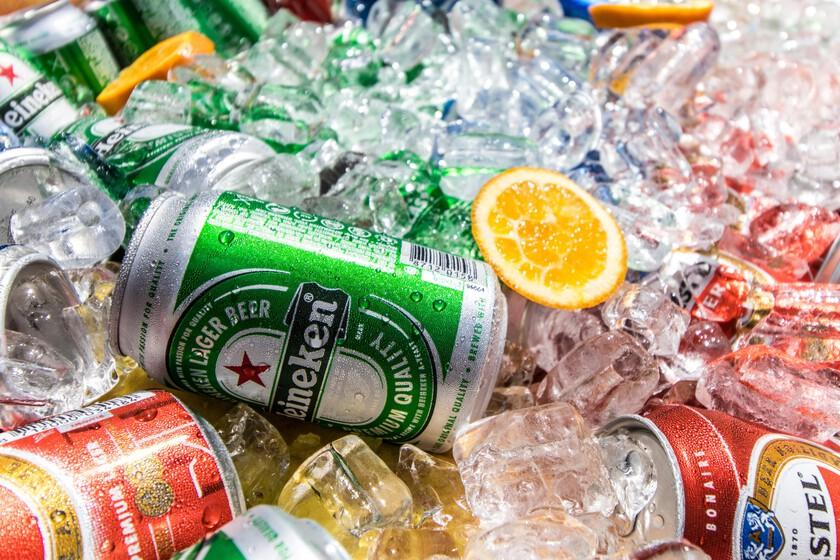lata: (93, 169, 525, 470), (0, 391, 244, 559), (604, 406, 839, 559), (172, 505, 350, 559)
